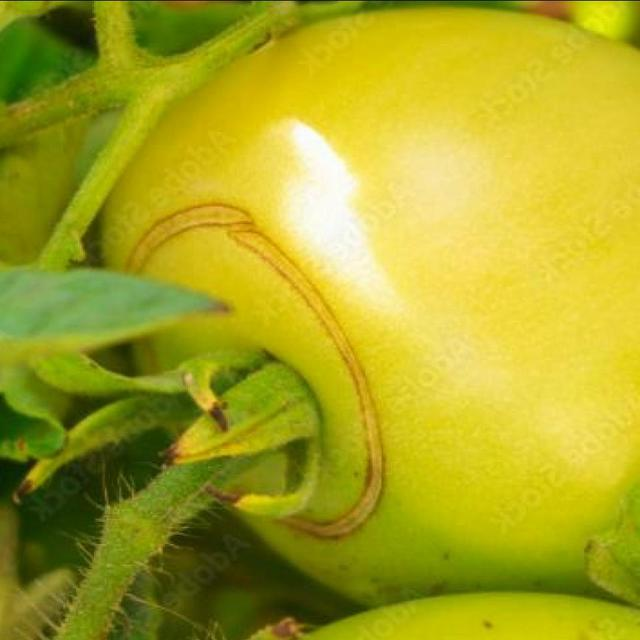Cracking Fruit: (71, 130, 267, 367)
